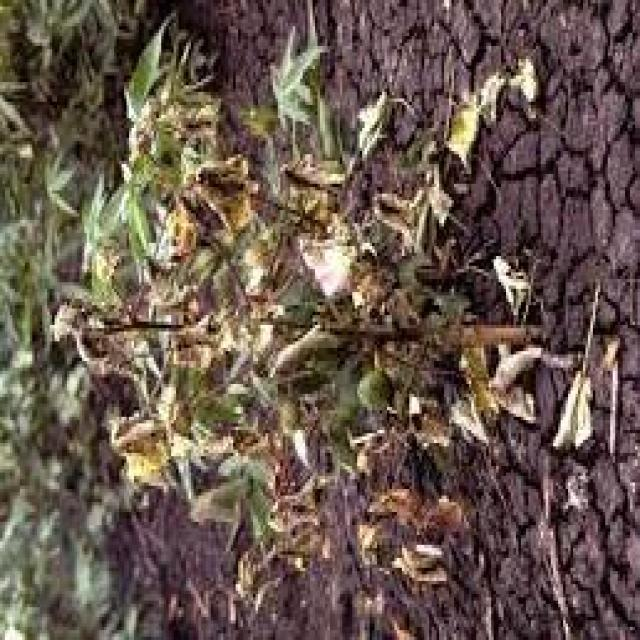Fusarium Wilt: (25, 29, 575, 592)
